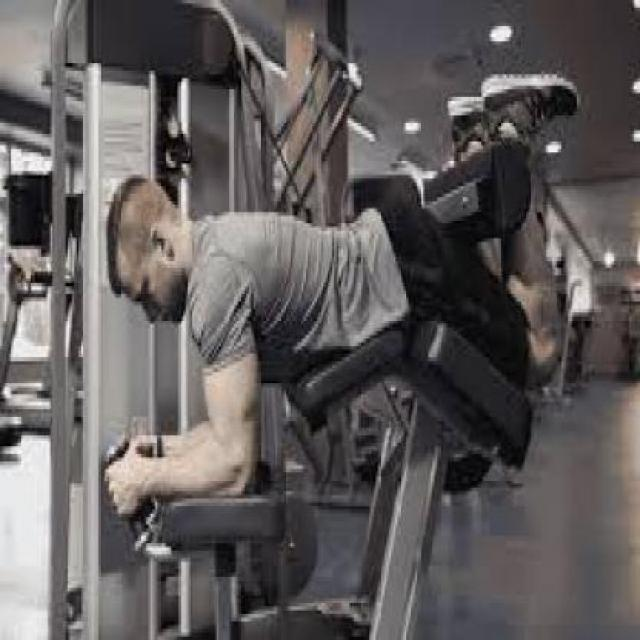reg curl machine: (56, 0, 584, 640)
